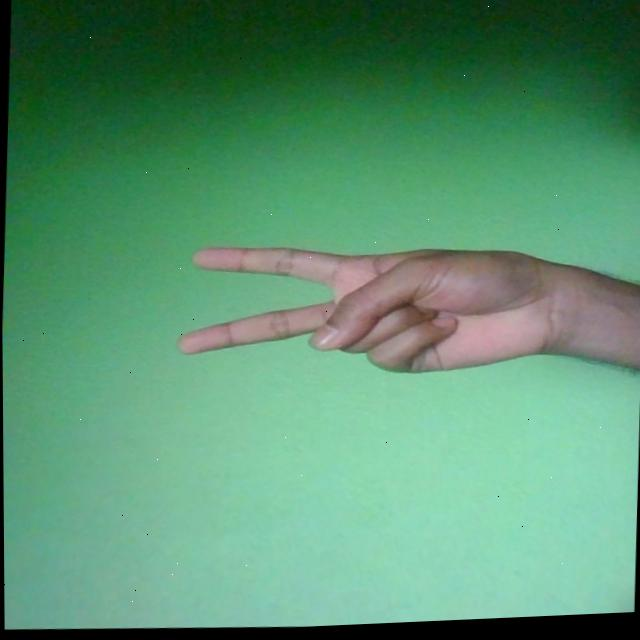Peace: (173, 236, 564, 389)
